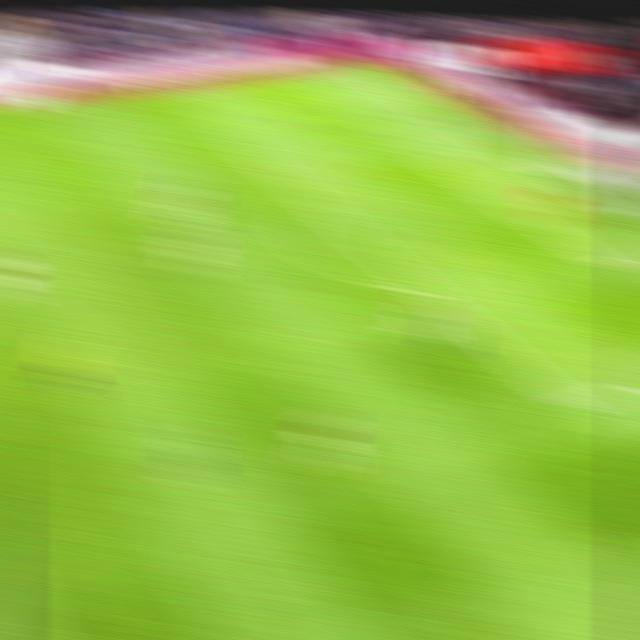bigarea_bottom_inner: (546, 391, 593, 421)
bigarea_top_inner: (222, 134, 259, 153)
bigarea_top_outter: (407, 104, 439, 117)
bottom_arc_area_intersection: (411, 286, 441, 300)
corner: (328, 63, 360, 71)
smallarea_bottom_inner: (591, 259, 628, 276)
smallarea_top_inner: (425, 159, 458, 174)
smallarea_top_outter: (487, 147, 519, 160)
top_arc_area_intersection: (296, 190, 330, 211)
